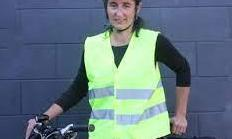Vest: (86, 31, 168, 137)
